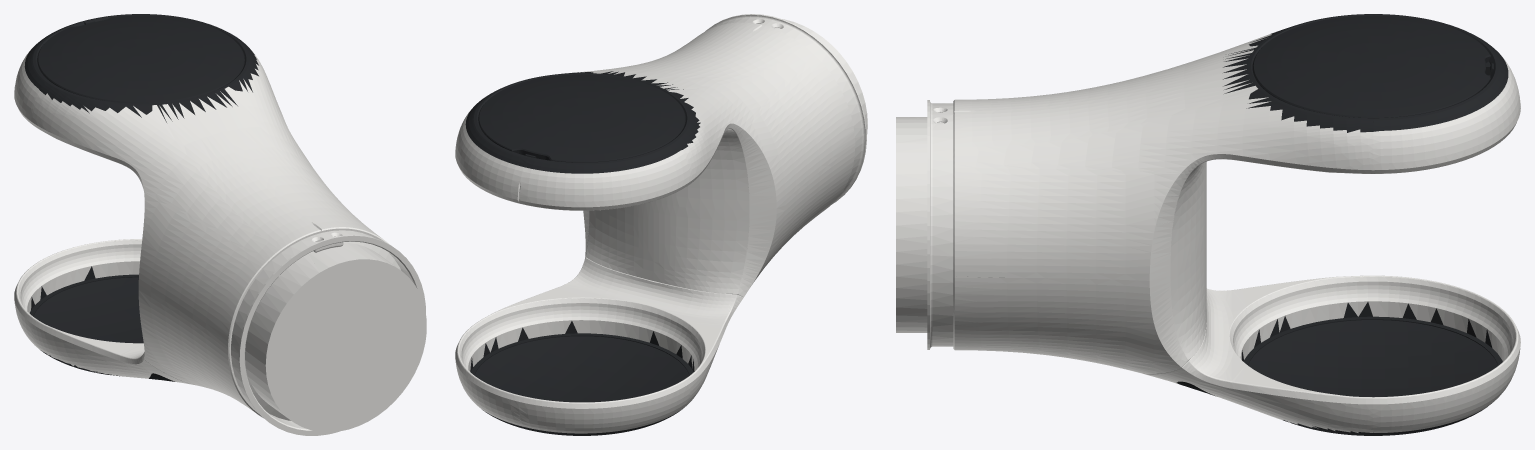
The model's file is AR5_5_08L_W4C4A6_link2_vis.obj.
The picture shows the model from 3 angles, left to right: view 1: azimuth 30°, elevation 25°; view 2: azimuth 150°, elevation 25°; view 3: azimuth 270°, elevation 25°; orthographic projection. The views are drawn at different scales.
Visible parts, largest first — view 1: AR5_5_08L_W4C4A6_link2; view 2: AR5_5_08L_W4C4A6_link2; view 3: AR5_5_08L_W4C4A6_link2.
Boxes of the visible parts, x1=… form: AR5_5_08L_W4C4A6_link2: x1=14, y1=14, x2=426, y2=435; AR5_5_08L_W4C4A6_link2: x1=455, y1=14, x2=867, y2=435; AR5_5_08L_W4C4A6_link2: x1=896, y1=14, x2=1520, y2=435.
Size of the model in its own units: 0.1132 by 0.1417 by 0.2397.
Materials: 1 (1 with a texture image).
